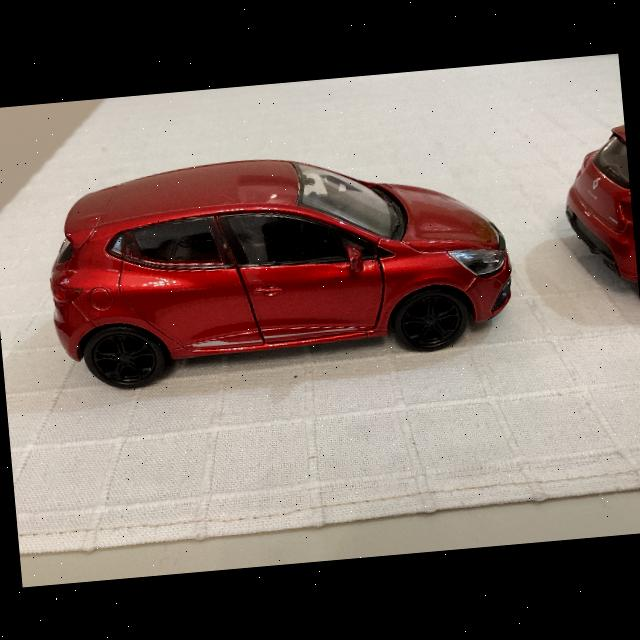Dogru_Jant: (90, 330, 156, 385), (400, 294, 461, 347)
